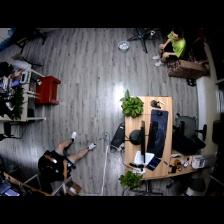normal: (153, 28, 183, 66)
